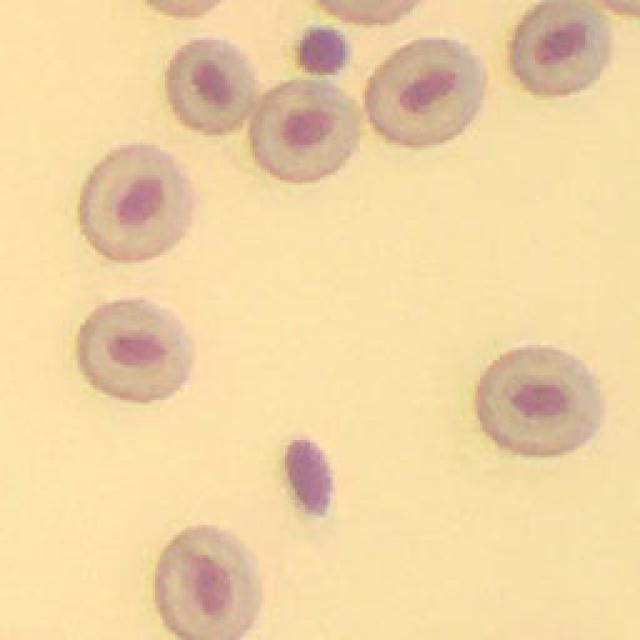RBC: (478, 346, 600, 454), (81, 144, 191, 260), (366, 39, 482, 144), (156, 526, 260, 640), (80, 300, 192, 401), (251, 80, 359, 181), (512, 1, 610, 94), (168, 39, 255, 132)
WBC: (286, 440, 332, 513), (301, 29, 346, 72)
